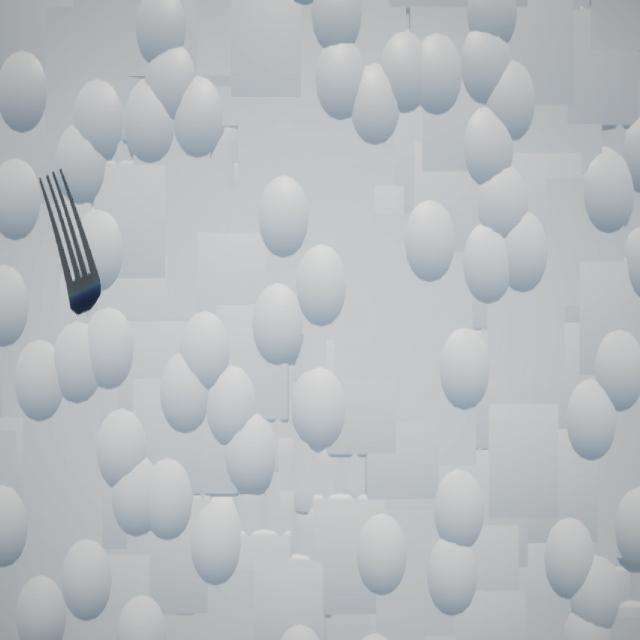top_folk: (40, 170, 102, 316)
